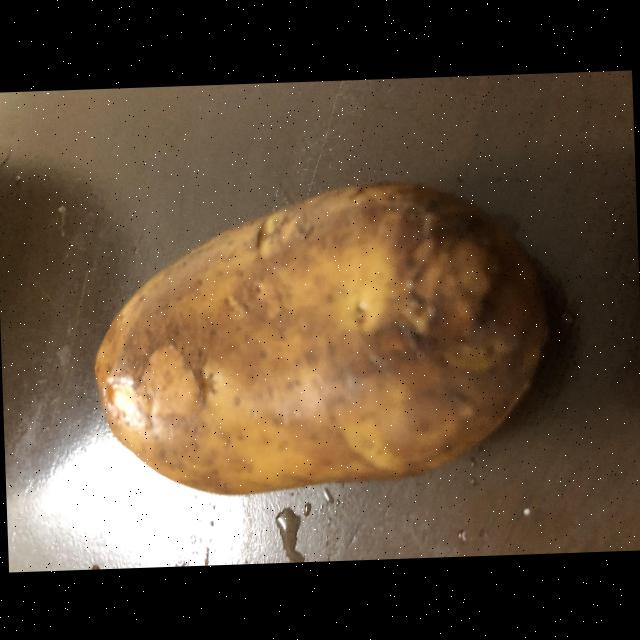Defected potato: (82, 177, 542, 503)
